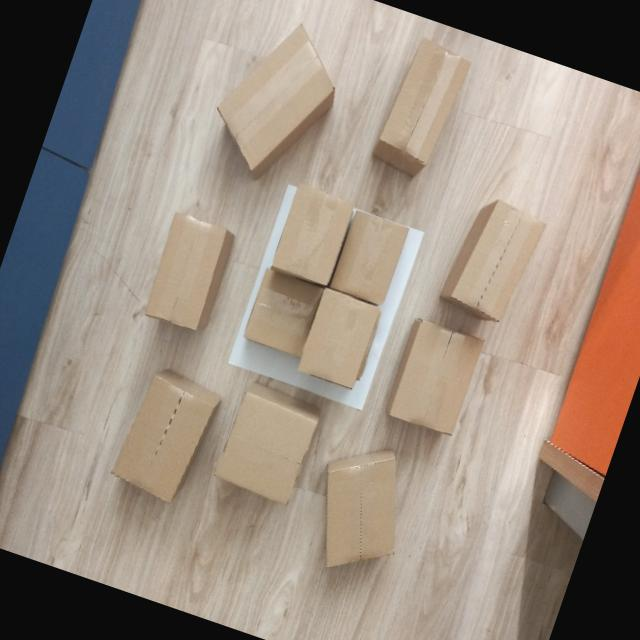box: (215, 23, 336, 180), (110, 368, 219, 501), (374, 40, 472, 174), (440, 200, 545, 323), (217, 386, 319, 509), (386, 319, 482, 436), (143, 211, 235, 332), (268, 184, 359, 290), (324, 453, 399, 570), (296, 287, 380, 390), (328, 208, 412, 308), (242, 267, 325, 356)
